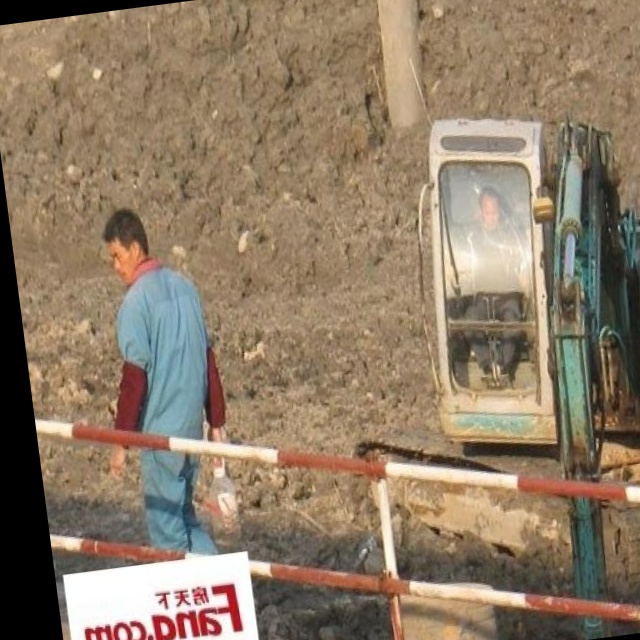Sin_Casco_Mascarrilla: (99, 205, 155, 285)
